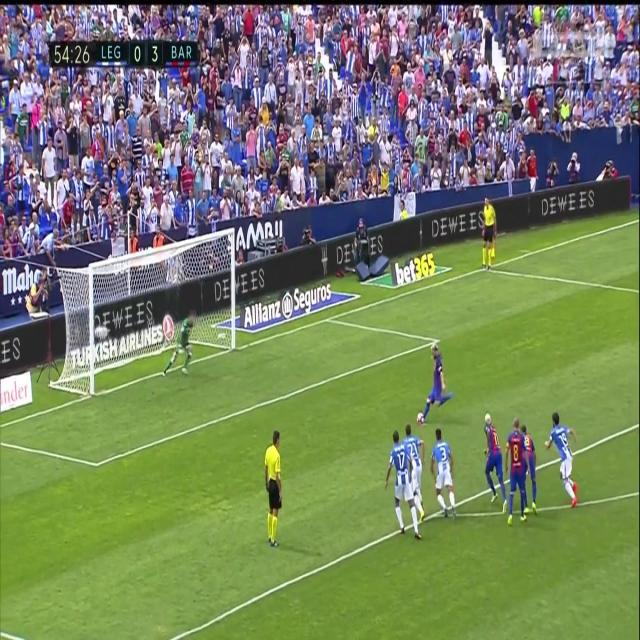Ball: (414, 410, 426, 428)
Goalkeeper: (161, 310, 199, 380)
Player: (384, 432, 421, 542), (542, 408, 582, 507), (480, 412, 509, 512), (504, 416, 530, 526), (430, 426, 460, 520), (402, 422, 428, 521), (424, 342, 452, 413), (521, 421, 539, 516)
Referee: (264, 427, 283, 551), (479, 190, 498, 272)
